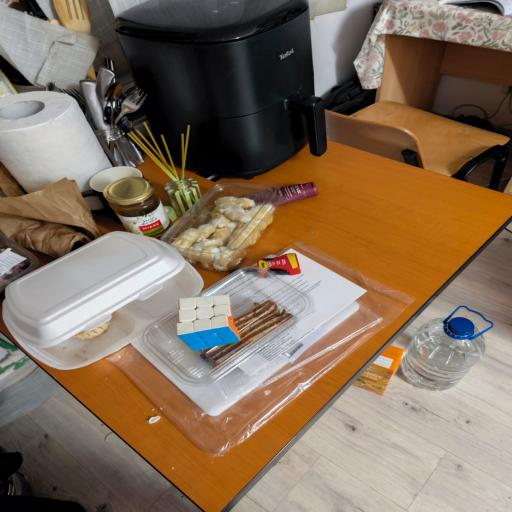Crema Maini: (260, 181, 320, 204)
Rubiks Cube: (173, 289, 244, 351)
Super Glue: (235, 252, 305, 280)
